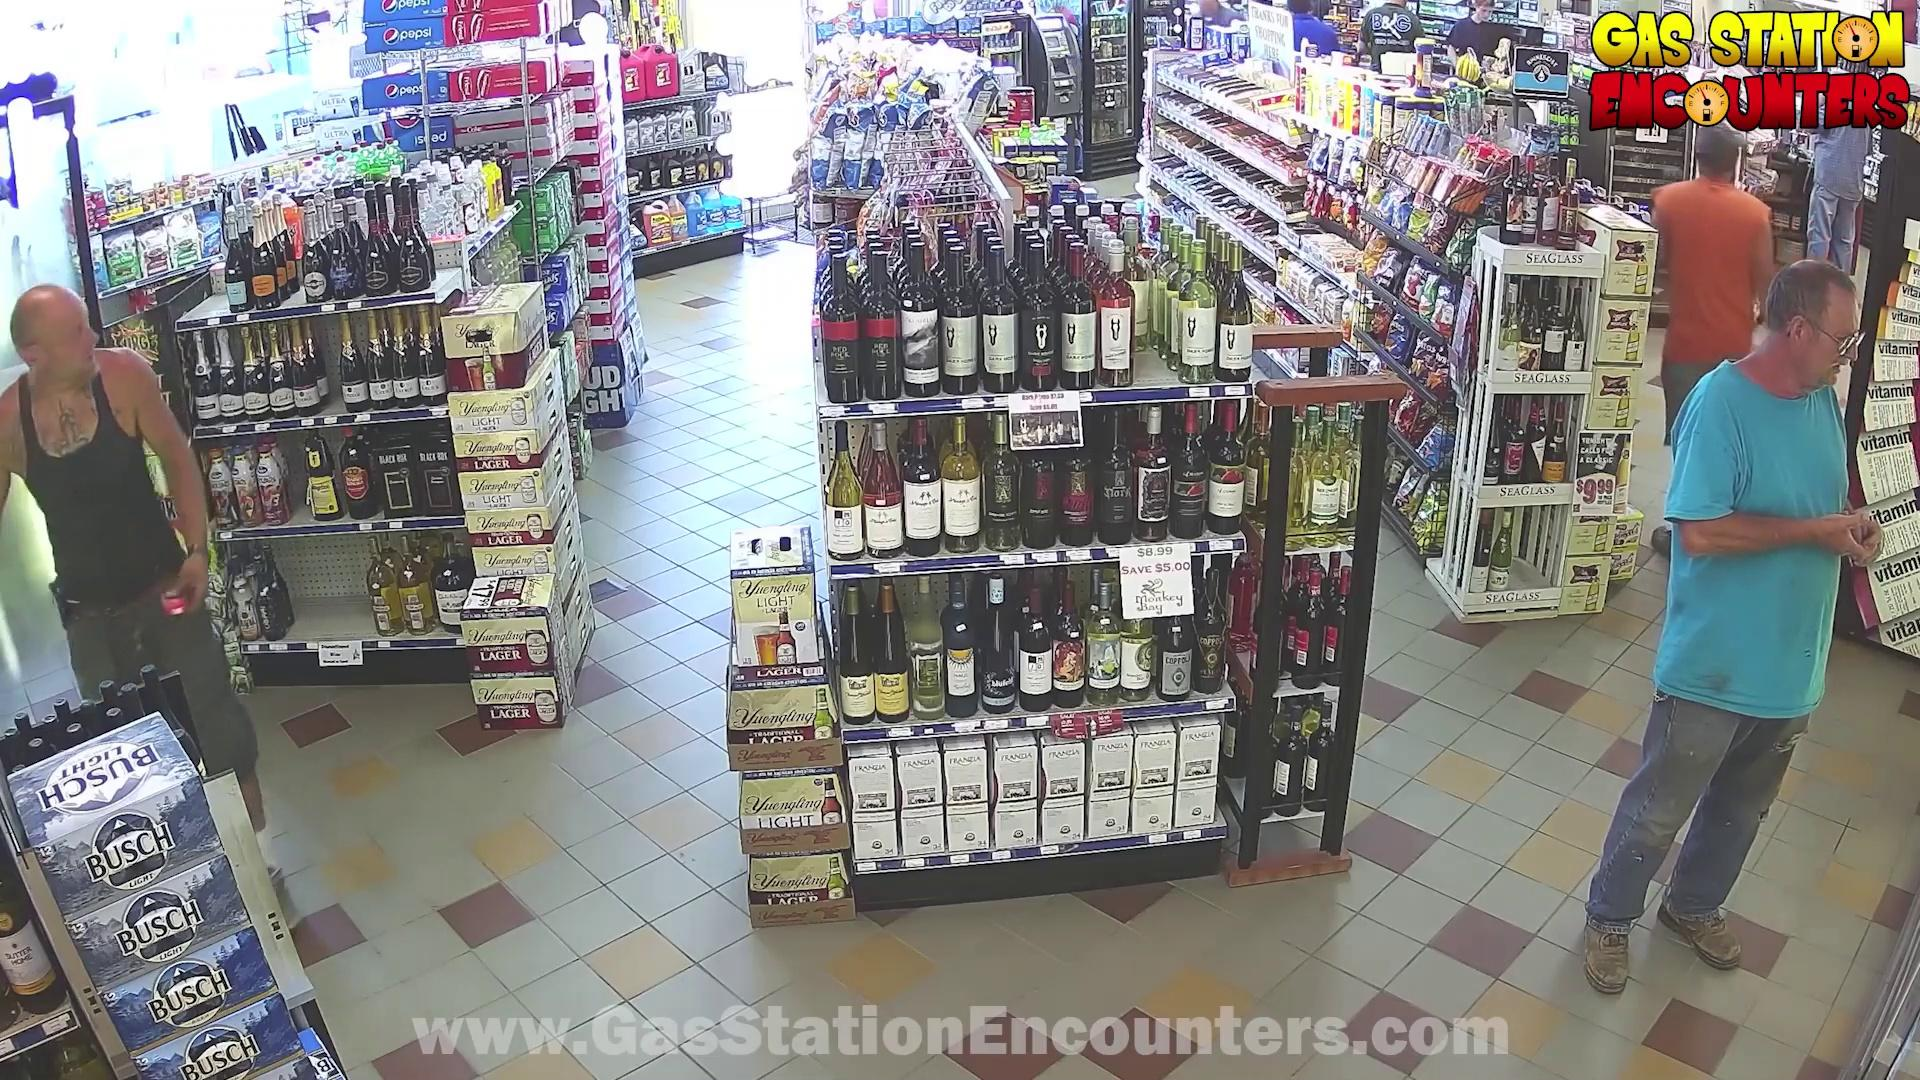Product: (140, 574, 223, 624)
Product-Picked: (0, 228, 396, 898)
Regular: (1548, 264, 1920, 976)
